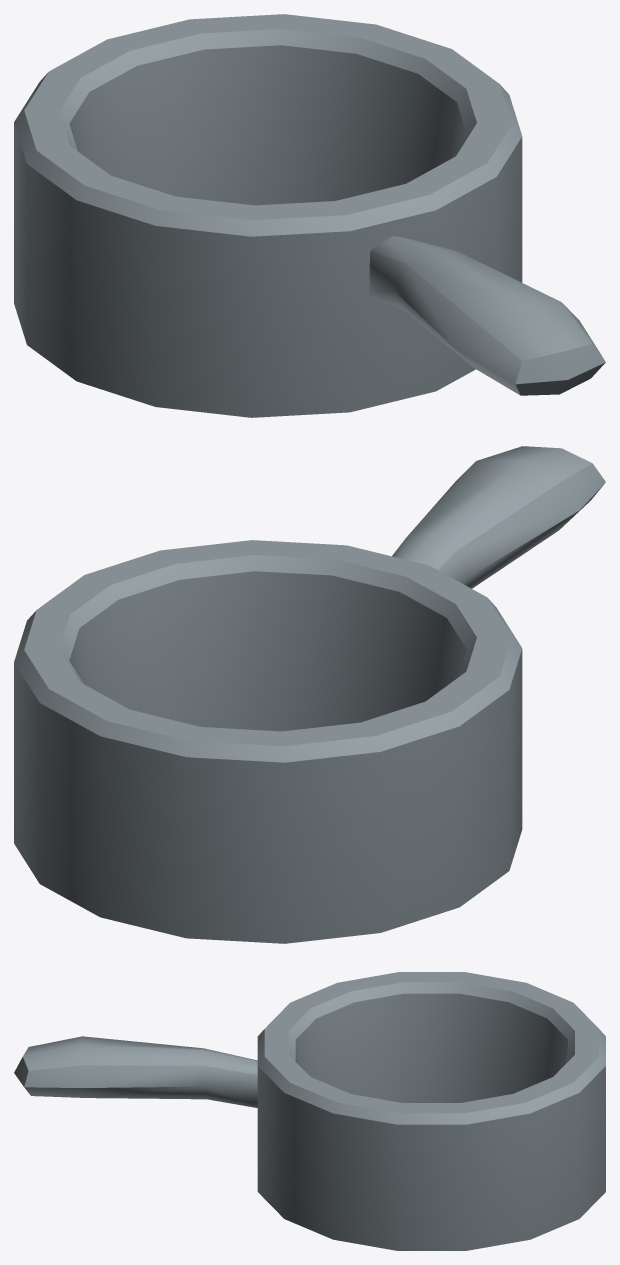
The model's file is Pan.glb.
The picture shows the model from 3 angles, top to bottom: view 1: azimuth 30°, elevation 25°; view 2: azimuth 150°, elevation 25°; view 3: azimuth 270°, elevation 25°; orthographic projection. The views are drawn at different scales.
Visible parts, largest first — view 1: pan.006; view 2: pan.006; view 3: pan.006.
Part boxes in pixels (<box>): pan.006: <box>14,14,605,417</box>; pan.006: <box>14,446,605,943</box>; pan.006: <box>14,972,605,1250</box>.
Size of the model in its own units: 0.75 by 0.35 by 1.28.
1 material, 1 textured.
